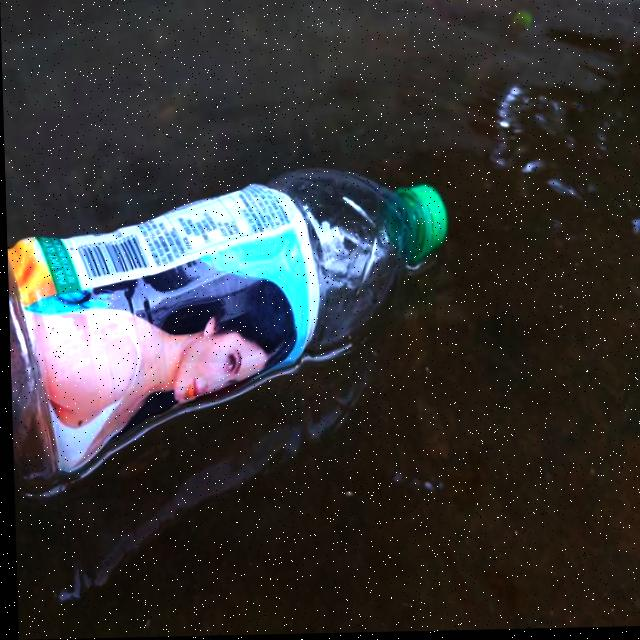waterbottle: (4, 158, 463, 480)
